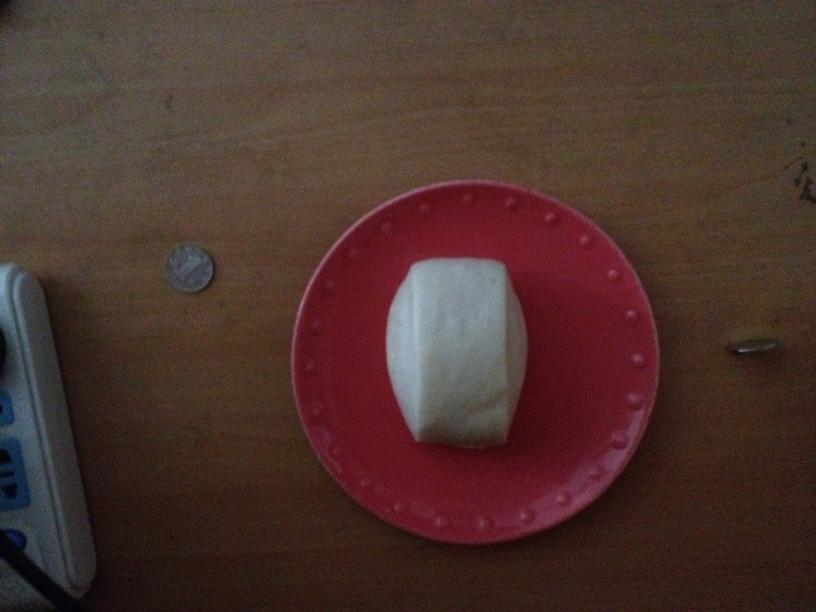bun: (382, 254, 530, 446)
coin: (160, 242, 214, 294)
